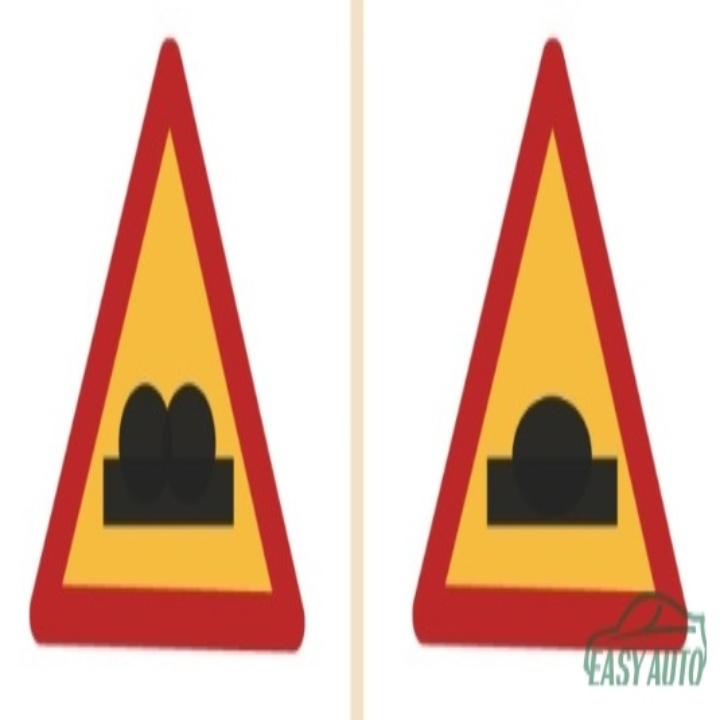bump: (481, 387, 631, 537)
